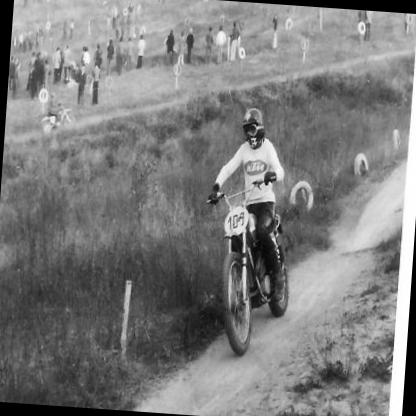moto: (201, 191, 317, 352)
